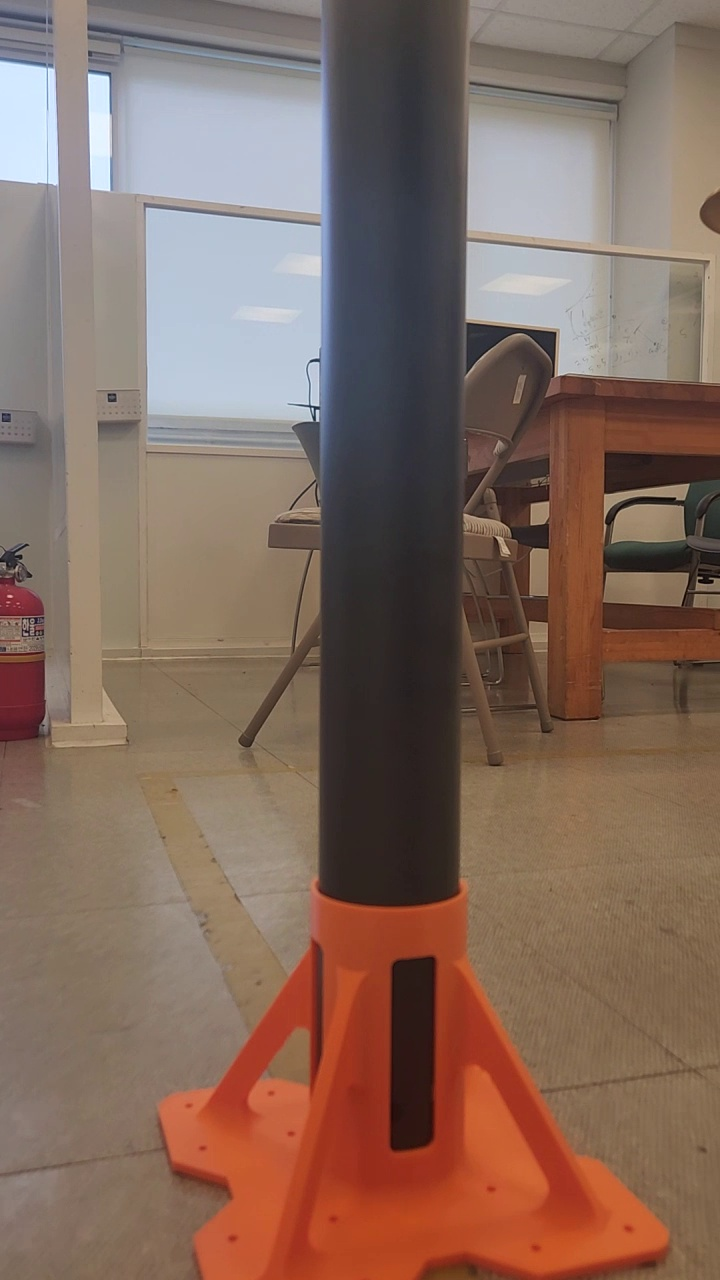pole: (310, 1, 473, 888)
